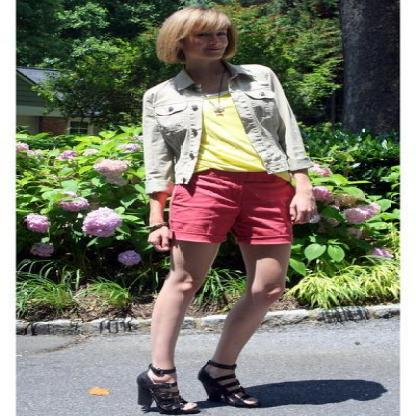jacket: (137, 63, 313, 191)
shirt: (187, 96, 273, 171)
shoe: (137, 360, 252, 414)
shorts: (168, 158, 312, 243)
